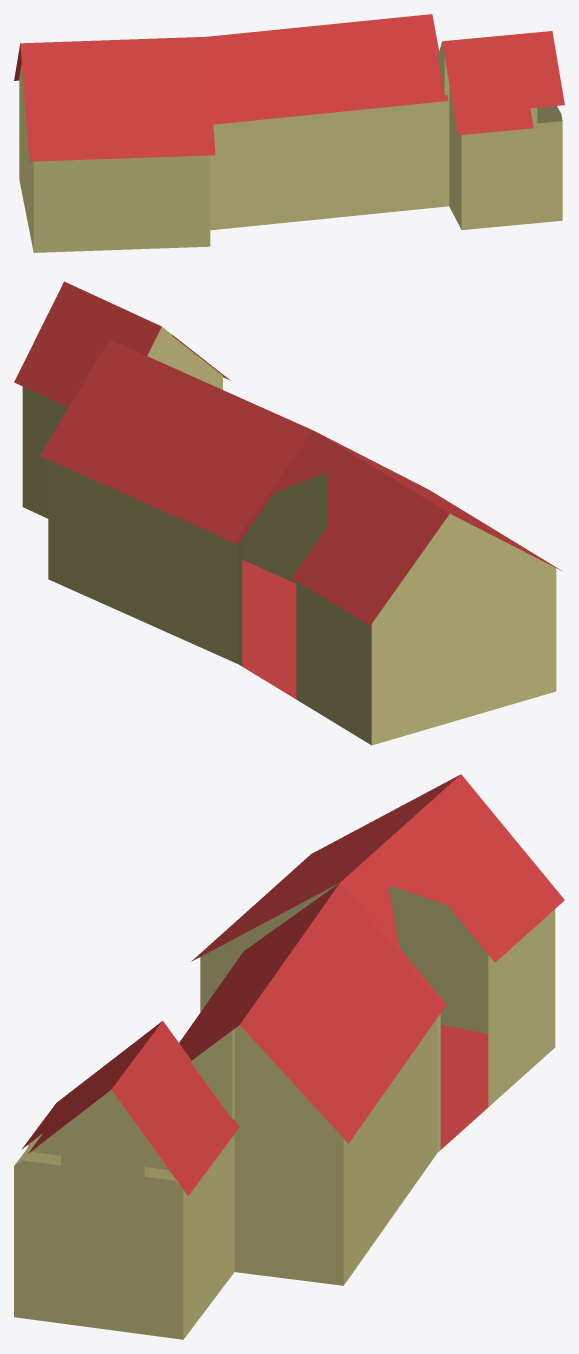
3 renders of one model, top to bottom at view 1: azimuth 30°, elevation 25°; view 2: azimuth 150°, elevation 25°; view 3: azimuth 270°, elevation 25°, orthographic. The views are drawn at different scales.
Size of the model in its own units: 28.25 by 18.89 by 9.5.
